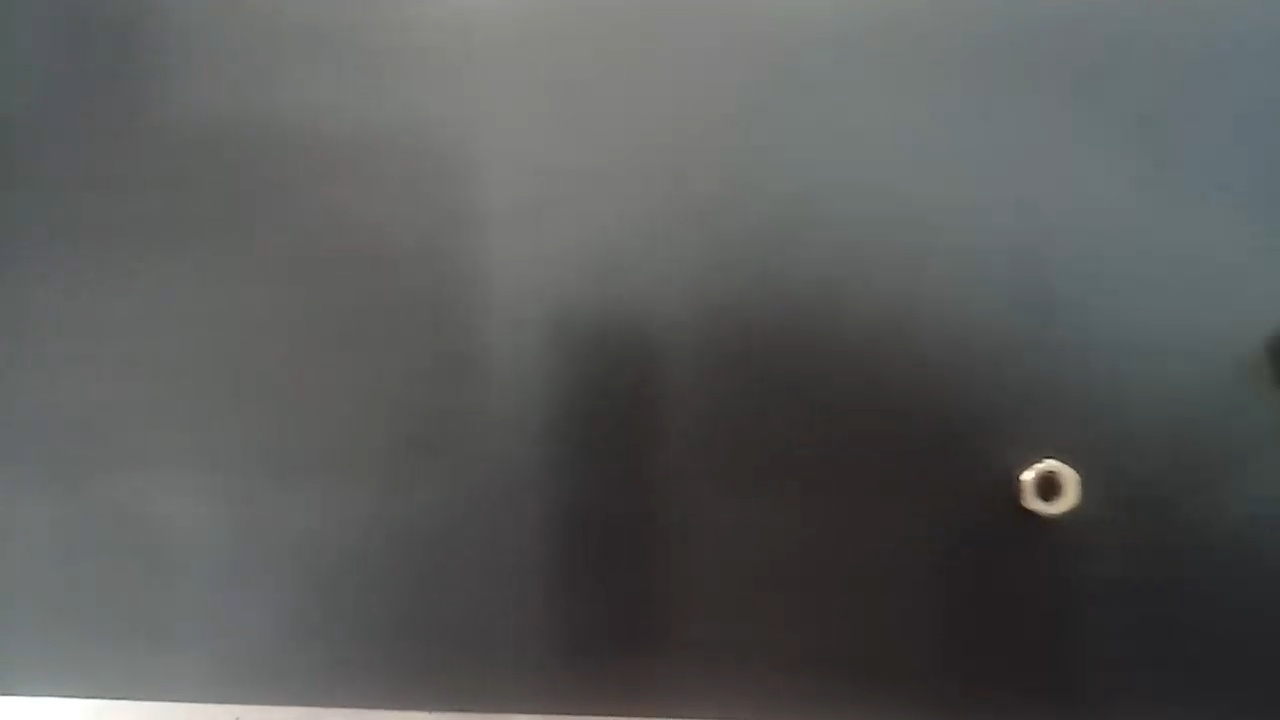Bolt: (1015, 452, 1089, 522)
